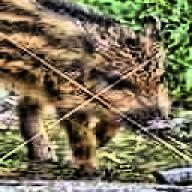boar: (0, 0, 172, 178)
